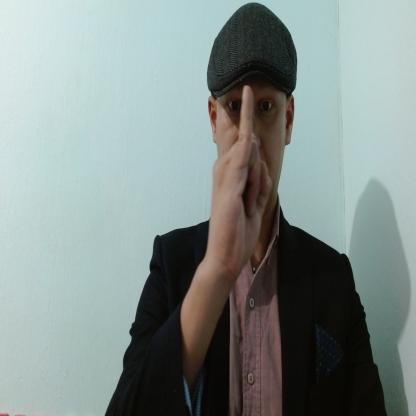I: (207, 83, 275, 277)
